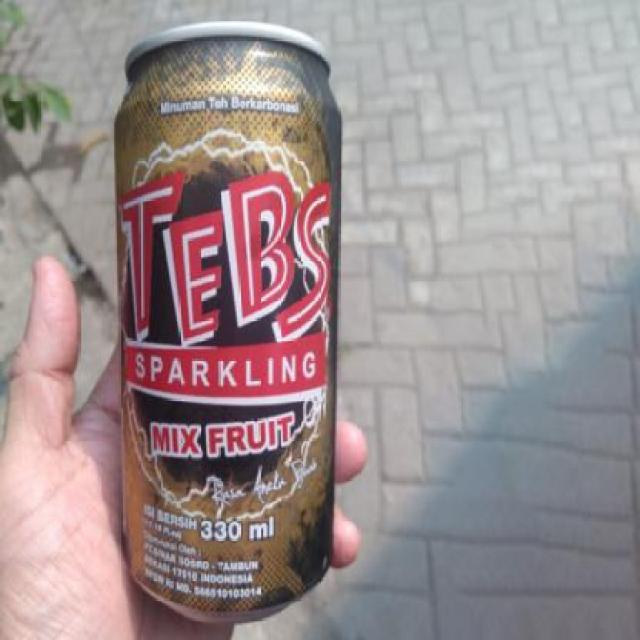Metal: (115, 20, 335, 624)
